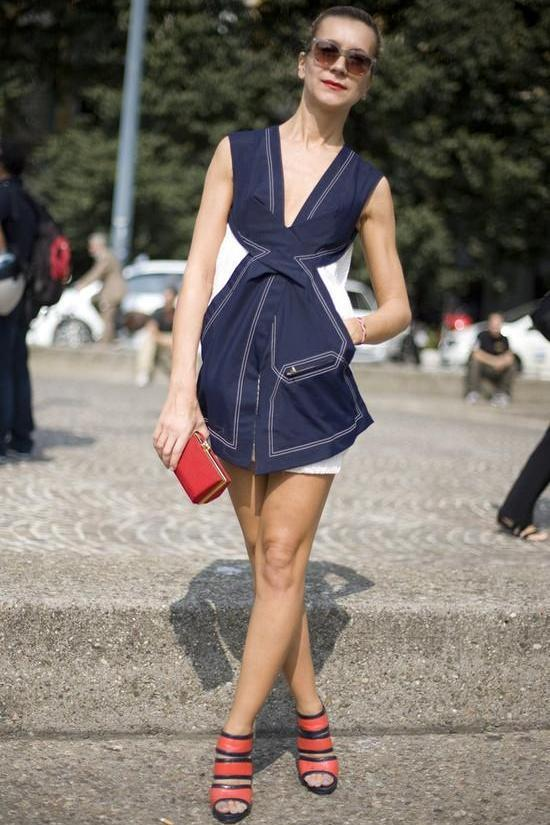dress: (190, 124, 384, 477)
